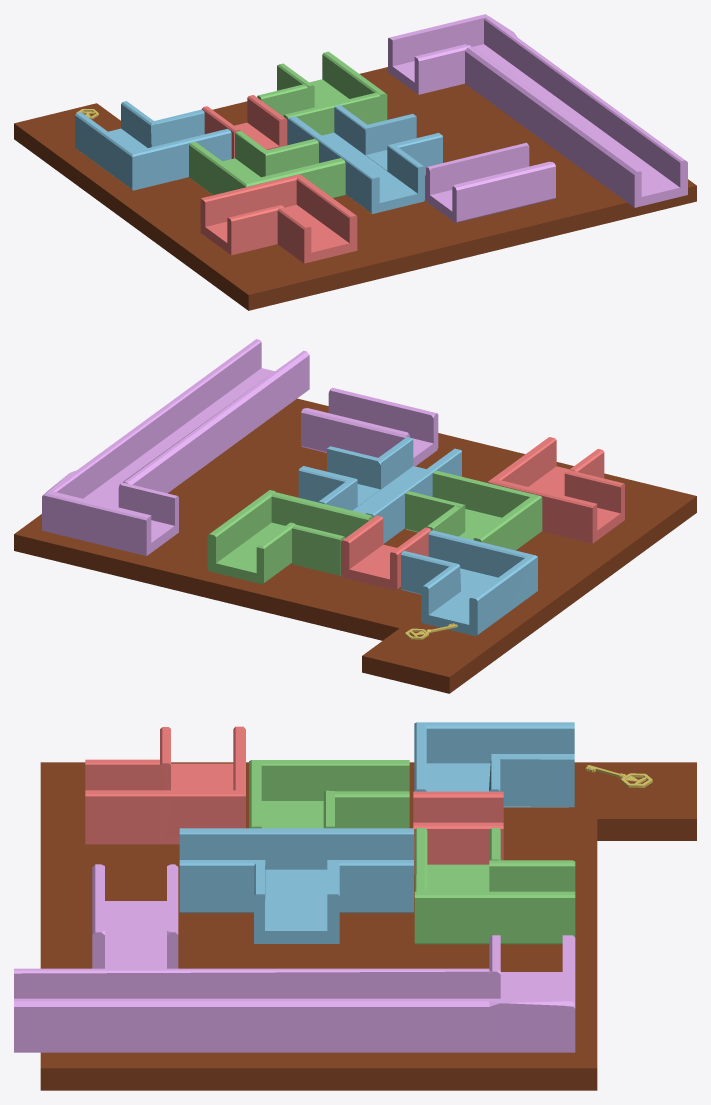
Rendered from puzzle wall 002.fbx.
The picture shows the model from 3 angles, top to bottom: view 1: azimuth 30°, elevation 25°; view 2: azimuth 150°, elevation 25°; view 3: azimuth 270°, elevation 25°; orthographic projection. The views are drawn at different scales.
Visible parts, largest first — view 1: Plane, Cube m.012, Cube m.011, Cube m.002, Cube m.008, Cube m, Cube m.006, Cube m.004, Cube m.005; view 2: Plane, Cube m.012, Cube m.008, Cube m.004, Cube m.002, Cube m.011, Cube m.006, Cube m, Cube m.005; view 3: Plane, Cube m.012, Cube m.002, Cube m.004, Cube m.011, Cube m.008, Cube m.006, Cube m, Cube m.005, Cylinder.001.
Part boxes in pixels (<box>): Plane: <box>14,67,696,310</box>; Cube m.012: <box>388,14,687,207</box>; Cube m.011: <box>200,174,357,263</box>; Cube m.002: <box>288,105,442,213</box>; Cube m.008: <box>75,101,231,190</box>; Cube m: <box>426,142,555,222</box>; Cube m.006: <box>189,131,345,198</box>; Cube m.004: <box>257,51,387,145</box>; Cube m.005: <box>201,95,287,158</box>; Plane: <box>14,398,696,693</box>; Cube m.012: <box>42,339,309,555</box>; Cube m.008: <box>401,530,537,636</box>; Cube m.004: <box>207,490,372,584</box>; Cube m.002: <box>298,437,461,543</box>; Cube m.011: <box>488,437,624,543</box>; Cube m.006: <box>405,470,542,550</box>; Cube m: <box>301,387,438,466</box>; Cube m.005: <box>341,515,431,590</box>; Plane: <box>40,762,696,1090</box>; Cube m.012: <box>14,935,575,1052</box>; Cube m.002: <box>179,828,413,943</box>; Cube m.004: <box>414,828,575,944</box>; Cube m.011: <box>85,726,245,844</box>; Cube m.008: <box>414,722,574,807</box>; Cube m.006: <box>249,760,409,828</box>; Cube m: <box>92,864,178,968</box>; Cube m.005: <box>413,791,503,875</box>; Cylinder.001: <box>585,765,652,787</box>.
Size of the model in its own units: 903 by 103 by 851.
